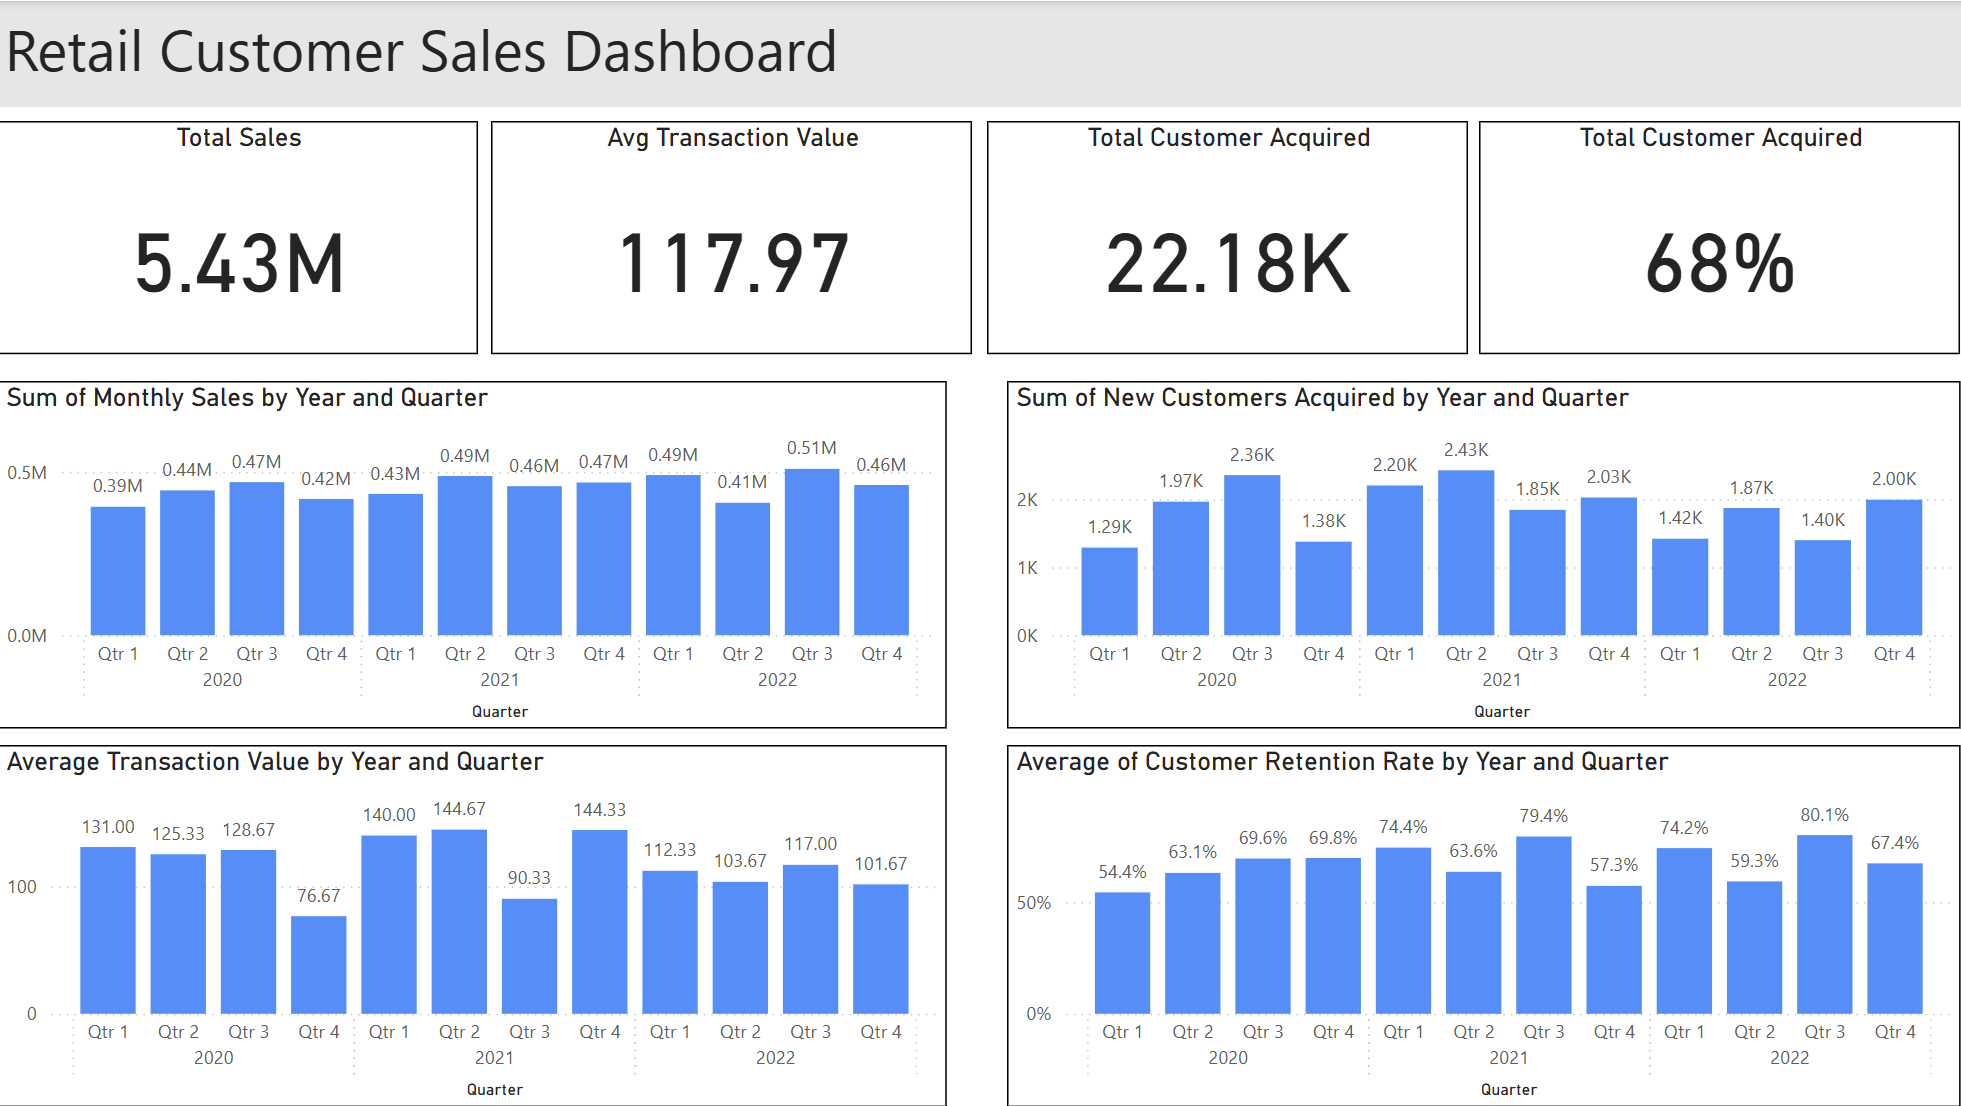

The page's visual inventory and layout, read from the dashboard file:
{"tool":"powerbi","page":{"name":"Page 1","canvas":[1280,720],"ordinal":0},"visuals":[{"type":"card","title":"Total Sales","fields":{"Values":["Sum(Retail_Dashboard_Data.Monthly Sales)"]},"box":[0,78.7,313.6,152],"z":0},{"type":"card","title":"Avg Transaction Value","fields":{"Values":["Avg(Retail_Dashboard_Data.Average Transaction Value)"]},"box":[321.7,78.7,313.6,152],"z":1000},{"type":"card","title":"Total Customer Acquired","fields":{"Values":["Sum(Retail_Dashboard_Data.New Customers Acquired)"]},"box":[644.8,78.7,313.6,152],"z":2000},{"type":"card","title":"Total Customer Acquired","fields":{"Values":["Avg(Retail_Dashboard_Data.Customer Retention Rate)"]},"box":[966.4,78.7,313.6,152],"z":3000},{"type":"columnChart","fields":{"Y":["Sum(Retail_Dashboard_Data.Monthly Sales)"],"Category":["Retail_Dashboard_Data.Date.Variation.Date Hierarchy.Year","Retail_Dashboard_Data.Date.Variation.Date Hierarchy.Quarter"]},"box":[0,247,619,226.7],"z":4000},{"type":"columnChart","fields":{"Category":["Retail_Dashboard_Data.Date.Variation.Date Hierarchy.Year","Retail_Dashboard_Data.Date.Variation.Date Hierarchy.Quarter"],"Y":["Avg(Retail_Dashboard_Data.Average Transaction Value)"]},"box":[0,484.6,619,236.2],"z":5000},{"type":"columnChart","fields":{"Category":["Retail_Dashboard_Data.Date.Variation.Date Hierarchy.Year","Retail_Dashboard_Data.Date.Variation.Date Hierarchy.Quarter"],"Y":["Sum(Retail_Dashboard_Data.New Customers Acquired)"]},"box":[658.3,247,621.7,226.7],"z":6000},{"type":"columnChart","fields":{"Category":["Retail_Dashboard_Data.Date.Variation.Date Hierarchy.Year","Retail_Dashboard_Data.Date.Variation.Date Hierarchy.Quarter"],"Y":["Avg(Retail_Dashboard_Data.Customer Retention Rate)"]},"box":[658.3,484.6,621.7,236.2],"z":7000},{"type":"textbox","box":[0,0,1279.9,69.1],"z":8000}]}

Visuals, with their boxes in screenshot pixels (x1, y1, x2, y2), scaled from the page's 1280x720 canvas onto the 1961x1106 screenshot:
"Total Sales" card: [0, 121, 480, 354]
"Avg Transaction Value" card: [493, 121, 973, 354]
"Total Customer Acquired" card: [988, 121, 1468, 354]
"Total Customer Acquired" card: [1481, 121, 1960, 354]
columnChart - Sum(Retail_Dashboard_Data.Monthly Sales) x Retail_Dashboard_Data.Date.Variation.Date Hierarchy.Year: [0, 379, 948, 728]
columnChart - Retail_Dashboard_Data.Date.Variation.Date Hierarchy.Year x Retail_Dashboard_Data.Date.Variation.Date Hierarchy.Quarter: [0, 744, 948, 1105]
columnChart - Retail_Dashboard_Data.Date.Variation.Date Hierarchy.Year x Retail_Dashboard_Data.Date.Variation.Date Hierarchy.Quarter: [1009, 379, 1960, 728]
columnChart - Retail_Dashboard_Data.Date.Variation.Date Hierarchy.Year x Retail_Dashboard_Data.Date.Variation.Date Hierarchy.Quarter: [1009, 744, 1960, 1105]
textbox: [0, 0, 1960, 106]
